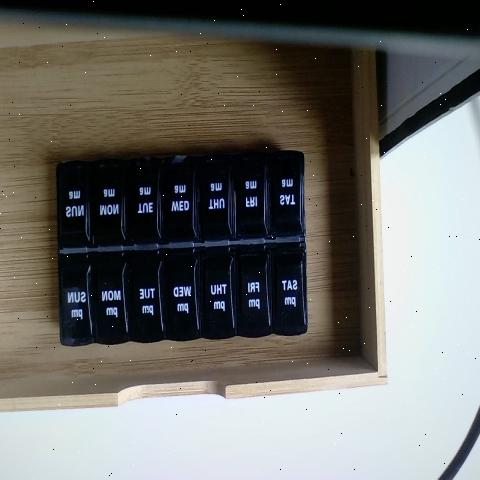FRI-am: (234, 154, 267, 242)
FRI-pm: (234, 244, 269, 335)
MON-am: (92, 157, 127, 244)
MON-pm: (94, 254, 126, 344)
SAT-am: (267, 155, 305, 241)
SAT-pm: (270, 244, 304, 335)
SUN-am: (59, 161, 91, 247)
SUN-pm: (61, 253, 94, 343)
THU-am: (196, 153, 231, 245)
THU-pm: (199, 248, 233, 339)
TUE-am: (126, 156, 161, 244)
TUE-pm: (129, 249, 162, 341)
WED-am: (162, 152, 195, 247)
WED-pm: (165, 248, 197, 338)
